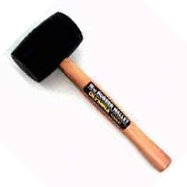hammer: (9, 11, 173, 175)
